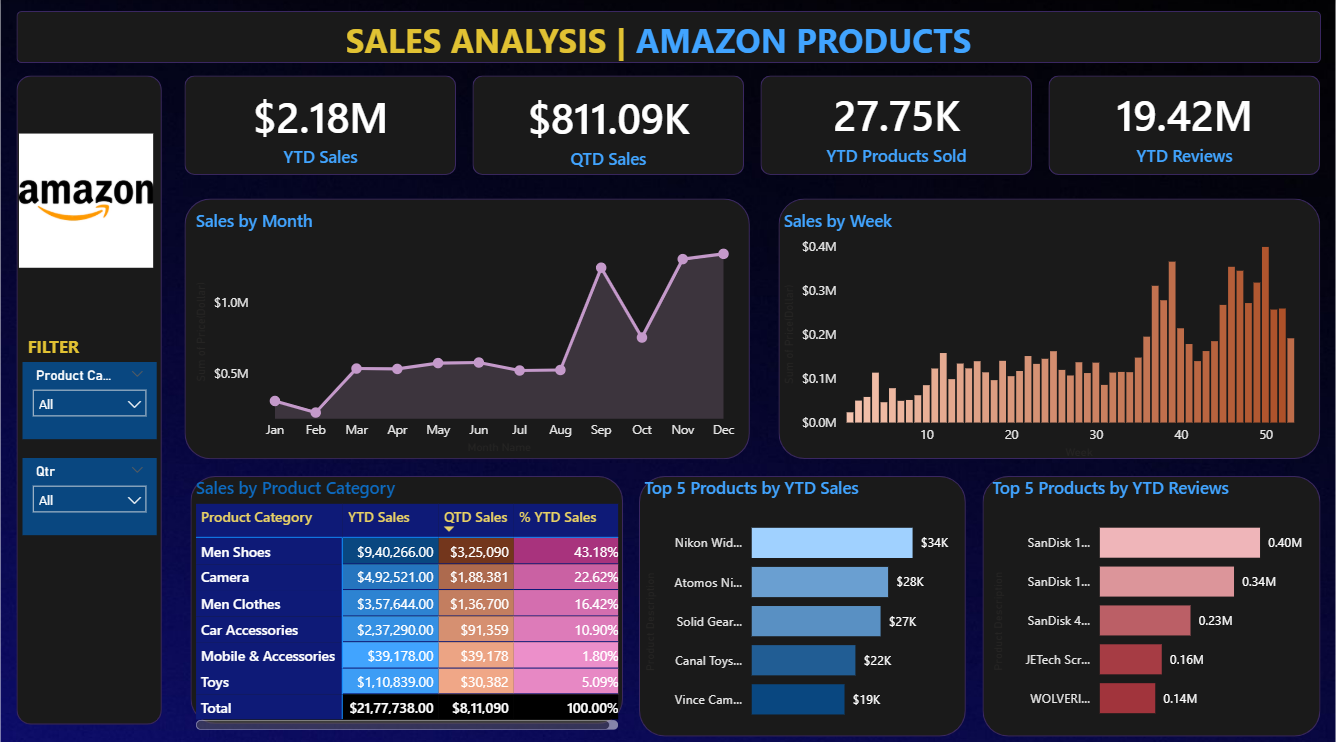

This screenshot's page, from the dashboard's own definition file:
{"tool":"powerbi","page":{"name":"Page 1","canvas":[1280,720],"ordinal":0},"visuals":[{"type":"shape","box":[177.2,72.7,260.4,95.4],"z":0,"group":"g1"},{"type":"shape","box":[15.1,12.1,1250.7,50],"z":0},{"type":"card","fields":{"Values":["Amazon_Data.YTD Sales"]},"box":[177.2,74.2,260.4,95.4],"z":1000,"group":"g1"},{"type":"textbox","box":[327.1,12.1,628.4,60.6],"z":1000},{"type":"shape","box":[453.3,72.7,260.4,95.4],"z":2000,"group":"g1"},{"type":"shape","box":[15.1,72.7,139.3,622.3],"z":2000},{"type":"shape","box":[1005.5,72.7,260.4,95.4],"z":3000,"group":"g1"},{"type":"group","id":"g1","title":"Group 1","box":[177.2,72.7,1088.7,98.4],"z":3000},{"type":"shape","box":[729.4,72.7,260.4,95.4],"z":4000,"group":"g1"},{"type":"shape","box":[177.2,190.8,542,250],"z":4000},{"type":"card","fields":{"Values":["Amazon_Data.QTD Sales"]},"box":[452.8,75.7,260.4,95.4],"z":5000,"group":"g1"},{"type":"areaChart","title":"Sales by Month","fields":{"Category":["Date Table.Month Name"],"Y":["Sum(Amazon_Data.Price(Dollar))"]},"box":[183.2,201.4,531.5,239.2],"z":5000},{"type":"card","fields":{"Values":["Amazon_Data.YTD Products Sold"]},"box":[729.9,72.7,260.4,95.4],"z":6000,"group":"g1"},{"type":"shape","box":[746.5,190.8,519.4,249.8],"z":6000},{"type":"card","fields":{"Values":["Amazon_Data.YTD Reviews"]},"box":[1005.5,72.7,260.4,95.4],"z":7000,"group":"g1"},{"type":"columnChart","title":"Sales by Week","fields":{"Category":["Date Table.Week"],"Y":["Sum(Amazon_Data.Price(Dollar))"]},"box":[746.5,201.4,519.4,243.8],"z":7000},{"type":"shape","box":[183.2,457.3,414.9,237.7],"z":8000},{"type":"pivotTable","title":"Sales by Product Category","fields":{"Rows":["Amazon_Data.Product Category"],"Values":["Amazon_Data.YTD Sales1","Amazon_Data.QTD Sales","Divide(Amazon_Data.YTD Sales, ScopedEval(Amazon_Data.YTD Sales, []))"]},"box":[183.2,457.3,414.9,248.3],"z":9000},{"type":"shape","box":[613.3,457.3,313.4,249.8],"z":10000},{"type":"shape","box":[941.8,457.3,324,249.8],"z":11000},{"type":"clusteredBarChart","title":"Top 5 Products by YTD Sales","fields":{"Category":["Amazon_Data.Product Description"],"Y":["Amazon_Data.YTD Sales"]},"box":[613.3,457.3,313.4,249.8],"z":12000},{"type":"clusteredBarChart","title":"Top 5 Products by YTD Reviews","fields":{"Category":["Amazon_Data.Product Description"],"Y":["Amazon_Data.YTD Reviews"]},"box":[946.4,457.3,313.4,248.3],"z":13000},{"type":"slicer","fields":{"Values":["Amazon_Data.Product Category"]},"box":[21.2,348.3,128.7,74.2],"z":14000},{"type":"slicer","fields":{"Values":["Date Table.Qtr"]},"box":[21.2,440.6,128.7,74.2],"z":15000},{"type":"image","box":[12.1,124.2,142.3,139.3],"z":16000},{"type":"textbox","box":[21.2,316.5,101.5,31.8],"z":17000}]}

Visuals, with their boxes in screenshot pixels (x1, y1, x2, y2), scaled from the page's 1280x720 canvas onto the 1336x742 screenshot:
shape: 185, 75, 457, 173
shape: 16, 12, 1321, 64
card - Amazon_Data.YTD Sales: 185, 76, 457, 175
textbox: 341, 12, 997, 75
shape: 473, 75, 745, 173
shape: 16, 75, 161, 716
shape: 1049, 75, 1321, 173
"Group 1" group: 185, 75, 1321, 176
shape: 761, 75, 1033, 173
shape: 185, 197, 751, 454
card - Amazon_Data.QTD Sales: 473, 78, 744, 176
"Sales by Month" areaChart: 191, 208, 746, 454
card - Amazon_Data.YTD Products Sold: 762, 75, 1034, 173
shape: 779, 197, 1321, 454
card - Amazon_Data.YTD Reviews: 1049, 75, 1321, 173
"Sales by Week" columnChart: 779, 208, 1321, 459
shape: 191, 471, 624, 716
"Sales by Product Category" pivotTable: 191, 471, 624, 727
shape: 640, 471, 967, 729
shape: 983, 471, 1321, 729
"Top 5 Products by YTD Sales" clusteredBarChart: 640, 471, 967, 729
"Top 5 Products by YTD Reviews" clusteredBarChart: 988, 471, 1315, 727
slicer - Amazon_Data.Product Category: 22, 359, 156, 435
slicer - Date Table.Qtr: 22, 454, 156, 531
image: 13, 128, 161, 272
textbox: 22, 326, 128, 359
